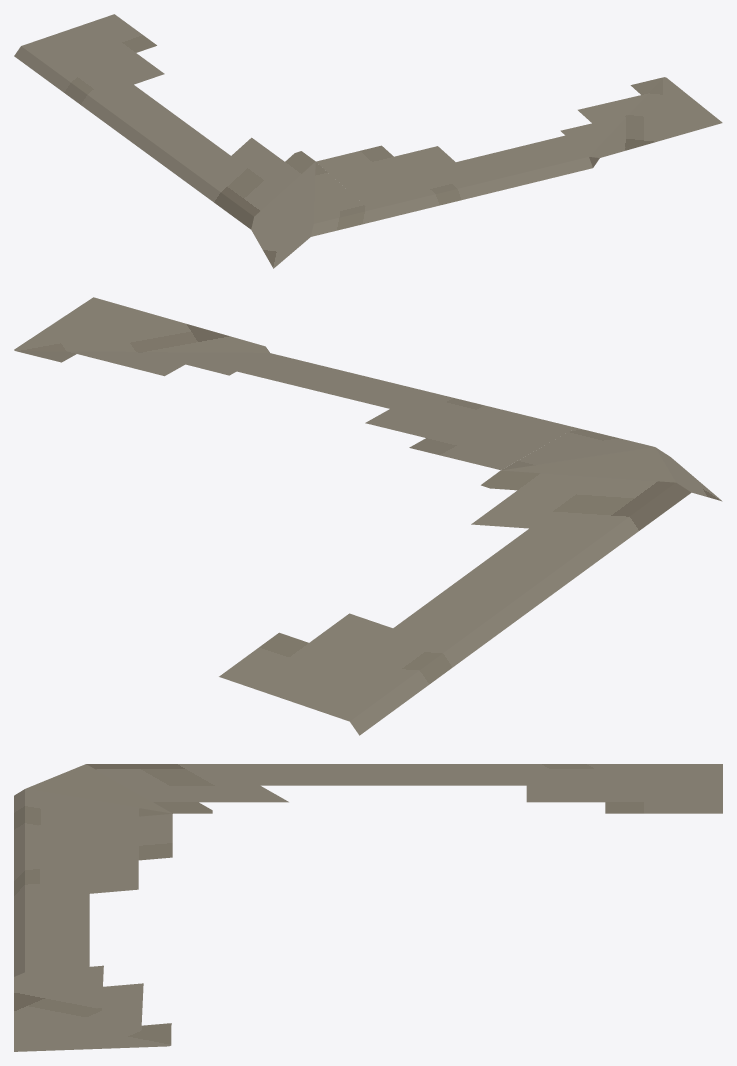
3 renders of one model, top to bottom at view 1: azimuth 30°, elevation 25°; view 2: azimuth 150°, elevation 25°; view 3: azimuth 270°, elevation 25°, orthographic. The views are drawn at different scales.
Bounding box in the file's own units: 1 × 0.0857 × 1.
1 material, 1 textured.
